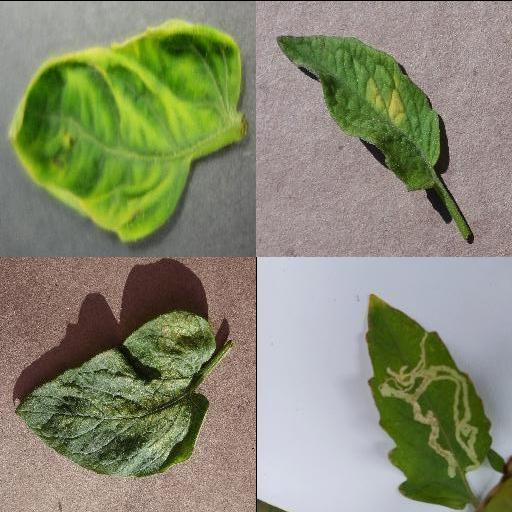Leaf Miner: (364, 291, 492, 510)
Leaf Mold: (276, 34, 442, 191)
Spider Mites: (14, 308, 216, 474)
Yellow Leaf Curl Virus: (7, 17, 243, 241)
